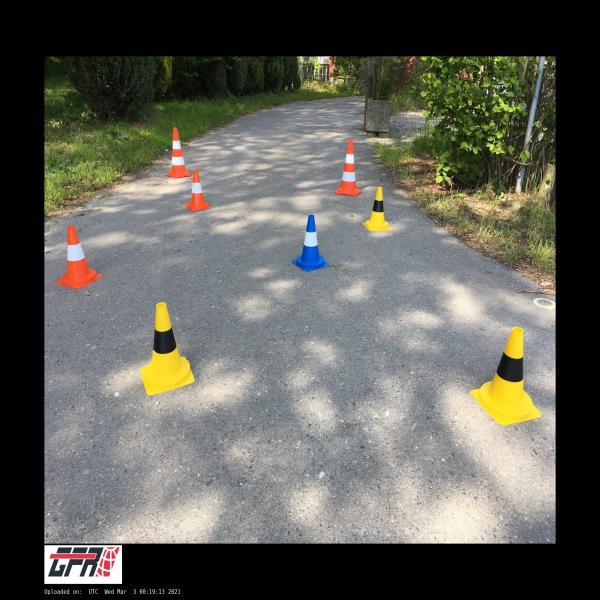blue_cone: (291, 215, 330, 272)
large_orange_cone: (335, 139, 362, 196), (166, 128, 192, 178)
orange_cone: (56, 226, 103, 289), (184, 170, 212, 212)
yellow_cone: (470, 327, 541, 425), (141, 302, 195, 395), (362, 186, 392, 231)
